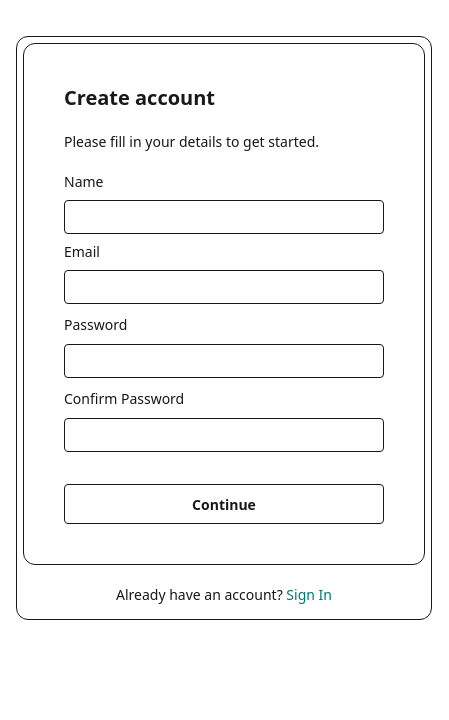
Test: Sign Up › displays validation errors when form is submitted with empty fields
The width and height of the screenshot is (449, 720).
Click the button "Continue": click(224, 504) [64,484,384,524]
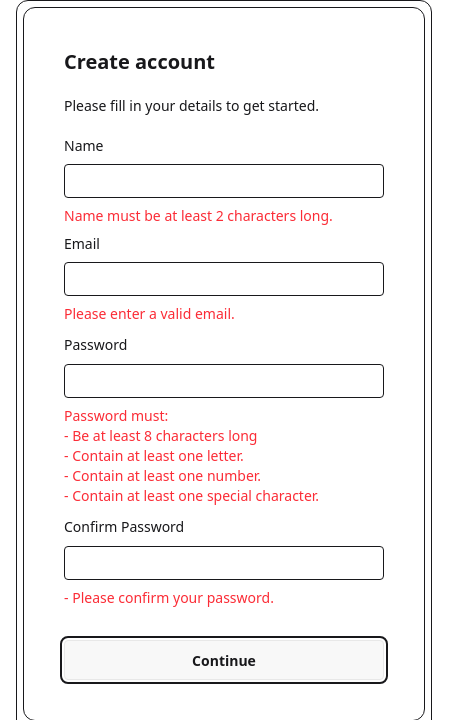
Result: the text "Name must be at least 2 characters long." is shown at [64,206,333,225]
Result: the text "Please enter a valid email." is shown at [64,304,235,323]
Result: the list item "- Be at least 8 characters long" is shown at [64,426,258,445]
